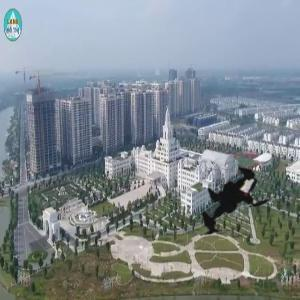drone: (176, 147, 295, 266)
